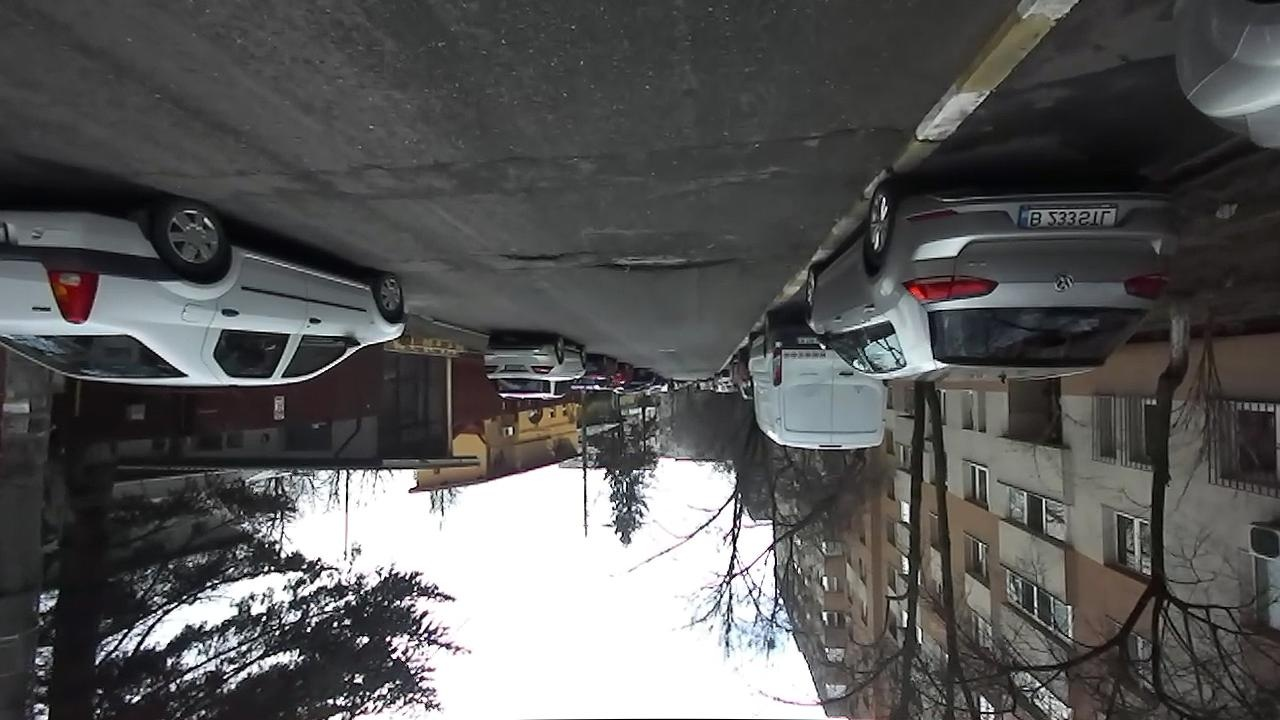pothole: (590, 249, 739, 274), (793, 115, 904, 144), (497, 250, 582, 264)
